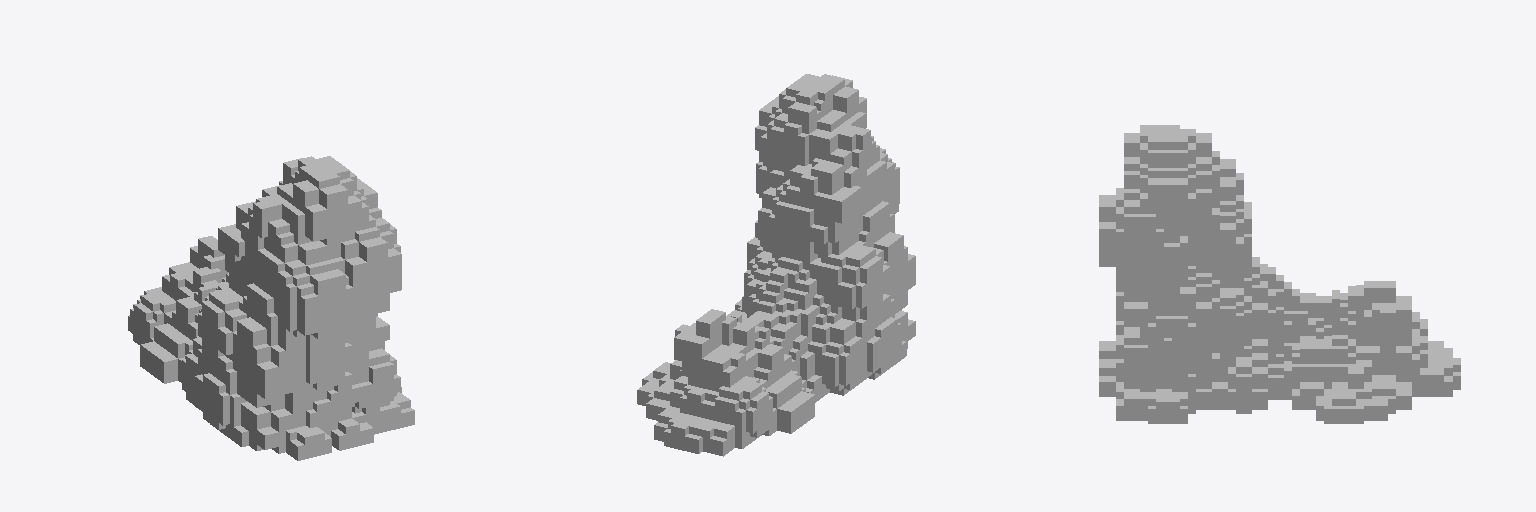
Rendered from Rock_002.obj.
3 renders of one model, left to right at view 1: azimuth 30°, elevation 25°; view 2: azimuth 150°, elevation 25°; view 3: azimuth 270°, elevation 25°, orthographic.
Parts seen in each view (by area): view 1: default; view 2: default; view 3: default.
Boxes of the visible parts, <box> form: default: <box>128,156,414,460</box>; default: <box>637,74,915,456</box>; default: <box>1099,125,1460,423</box>.
Size of the model in its own units: 24 by 35 by 45.